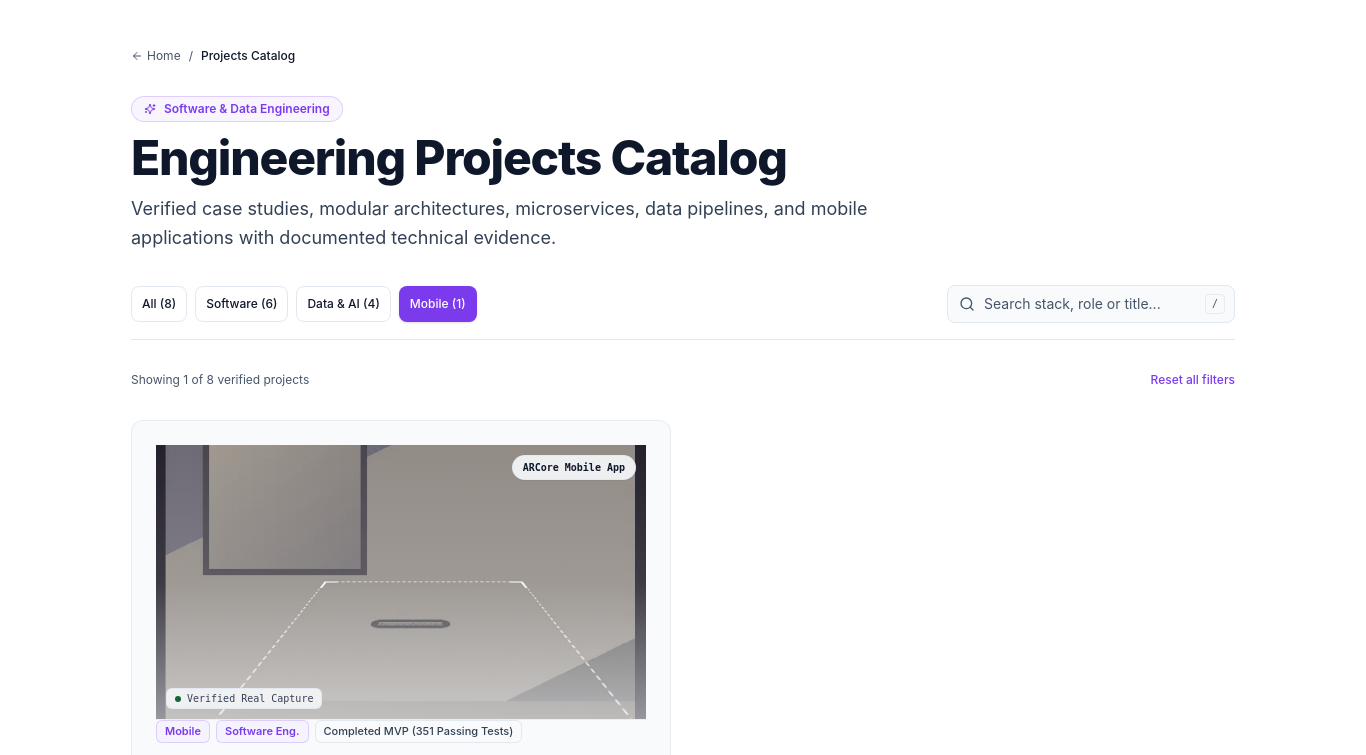
Test: ProjectsCatalogPage URL Search Params & Filtering › permite limpiar filtros mediante el botón Restablecer filtros
The image size is (1366, 755).
Check: the text "Showing 1 of 8 verified projects" is shown, box x1=131 y1=372 x2=309 y2=388
Click the button "Reset all filters".
click(1193, 380)  # box x1=1150 y1=372 x2=1235 y2=388
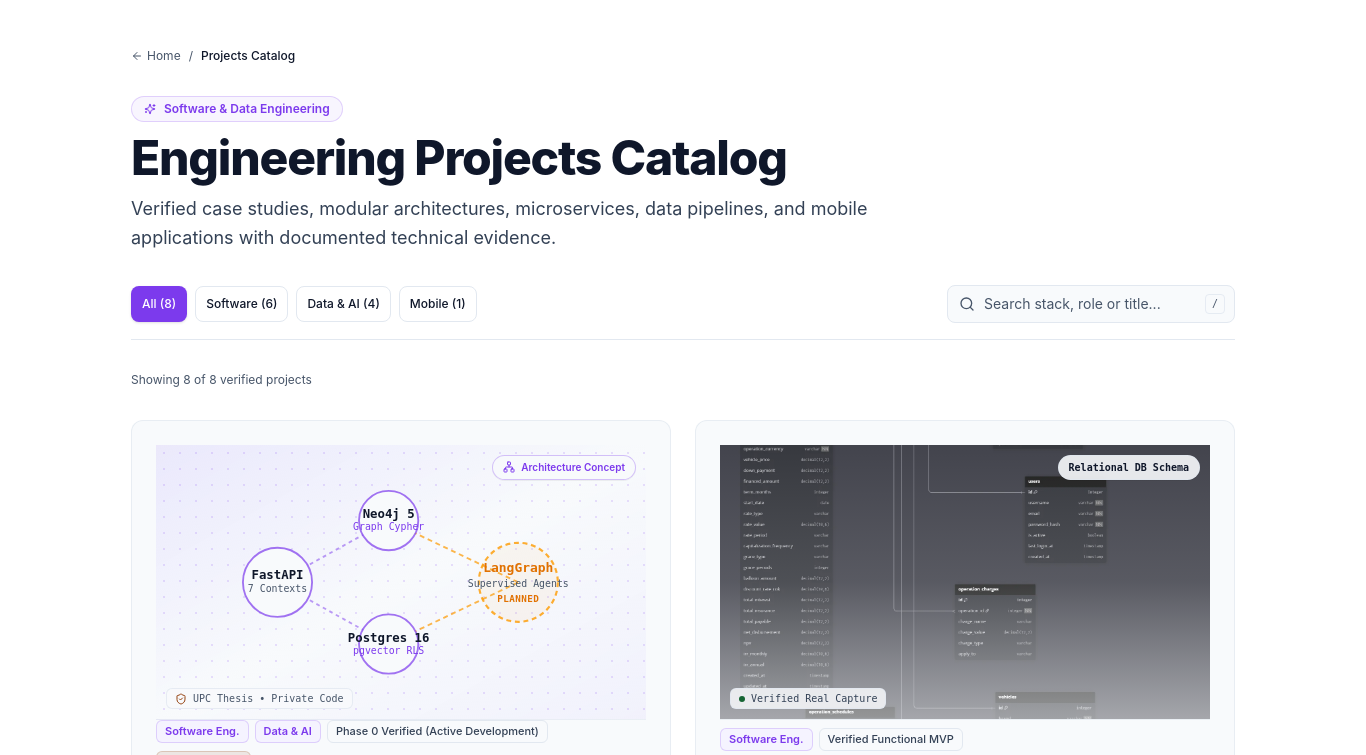
Check: the text "Showing 8 of 8 verified projects" is shown, box x1=131 y1=372 x2=312 y2=388
